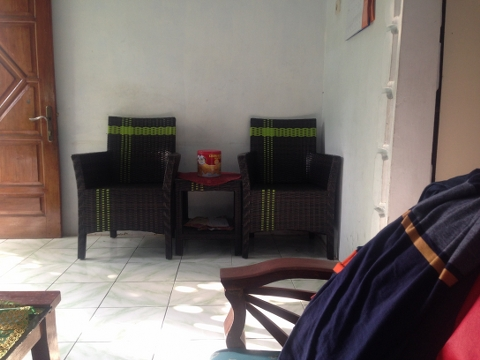kursi: (71, 116, 181, 261), (237, 118, 344, 260)
meja: (174, 172, 243, 256)
